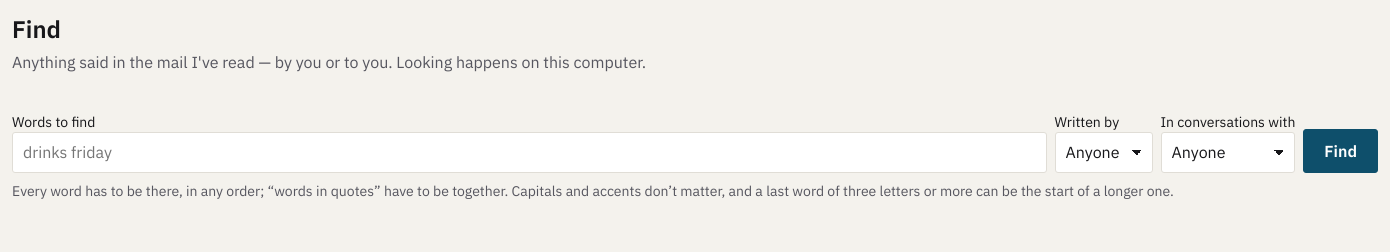
it: finding what was said › looks for nothing when nothing typed is a word
In the search field labelled "Words to find": (529, 153) [12,132,1046,174], type " ?! "
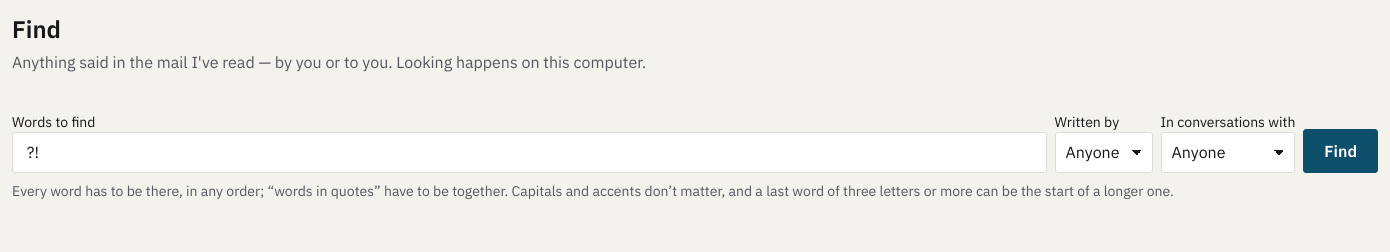
Click the button "Find": (1341, 152) [1303,130,1378,174]
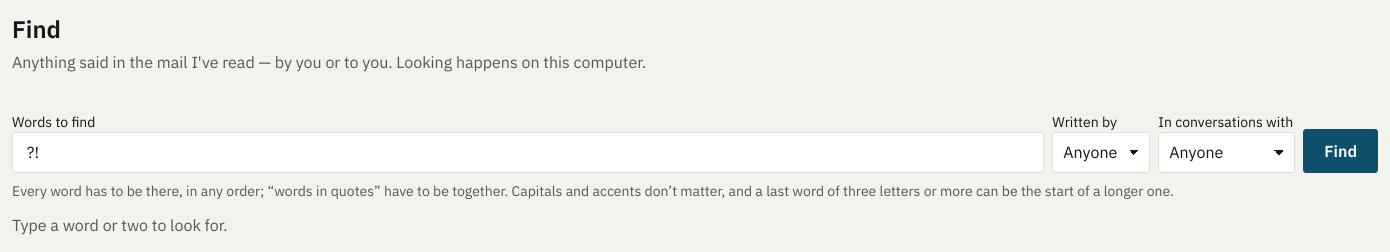
Check: the message reads "Type a word or two to look for.", box [12,215,228,235]
